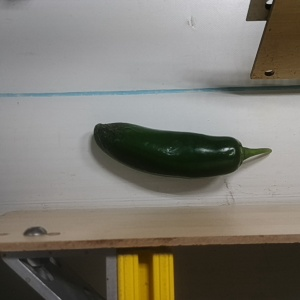Cut Point: (221, 135, 253, 172)
